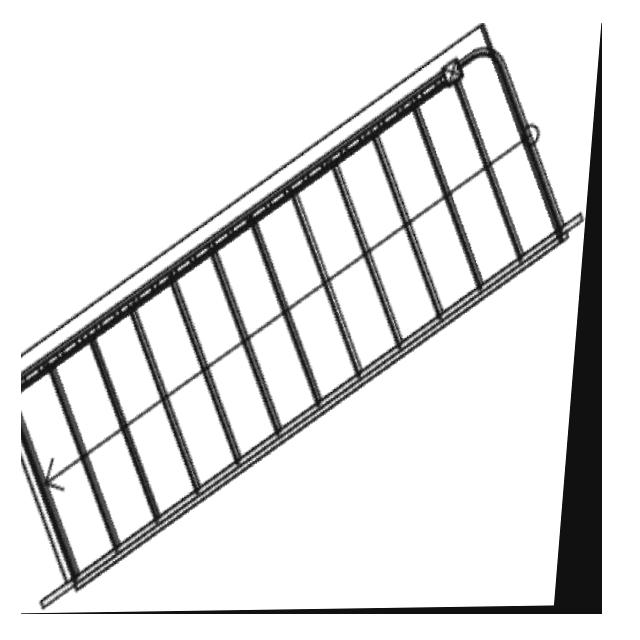stair: (21, 23, 602, 614)
